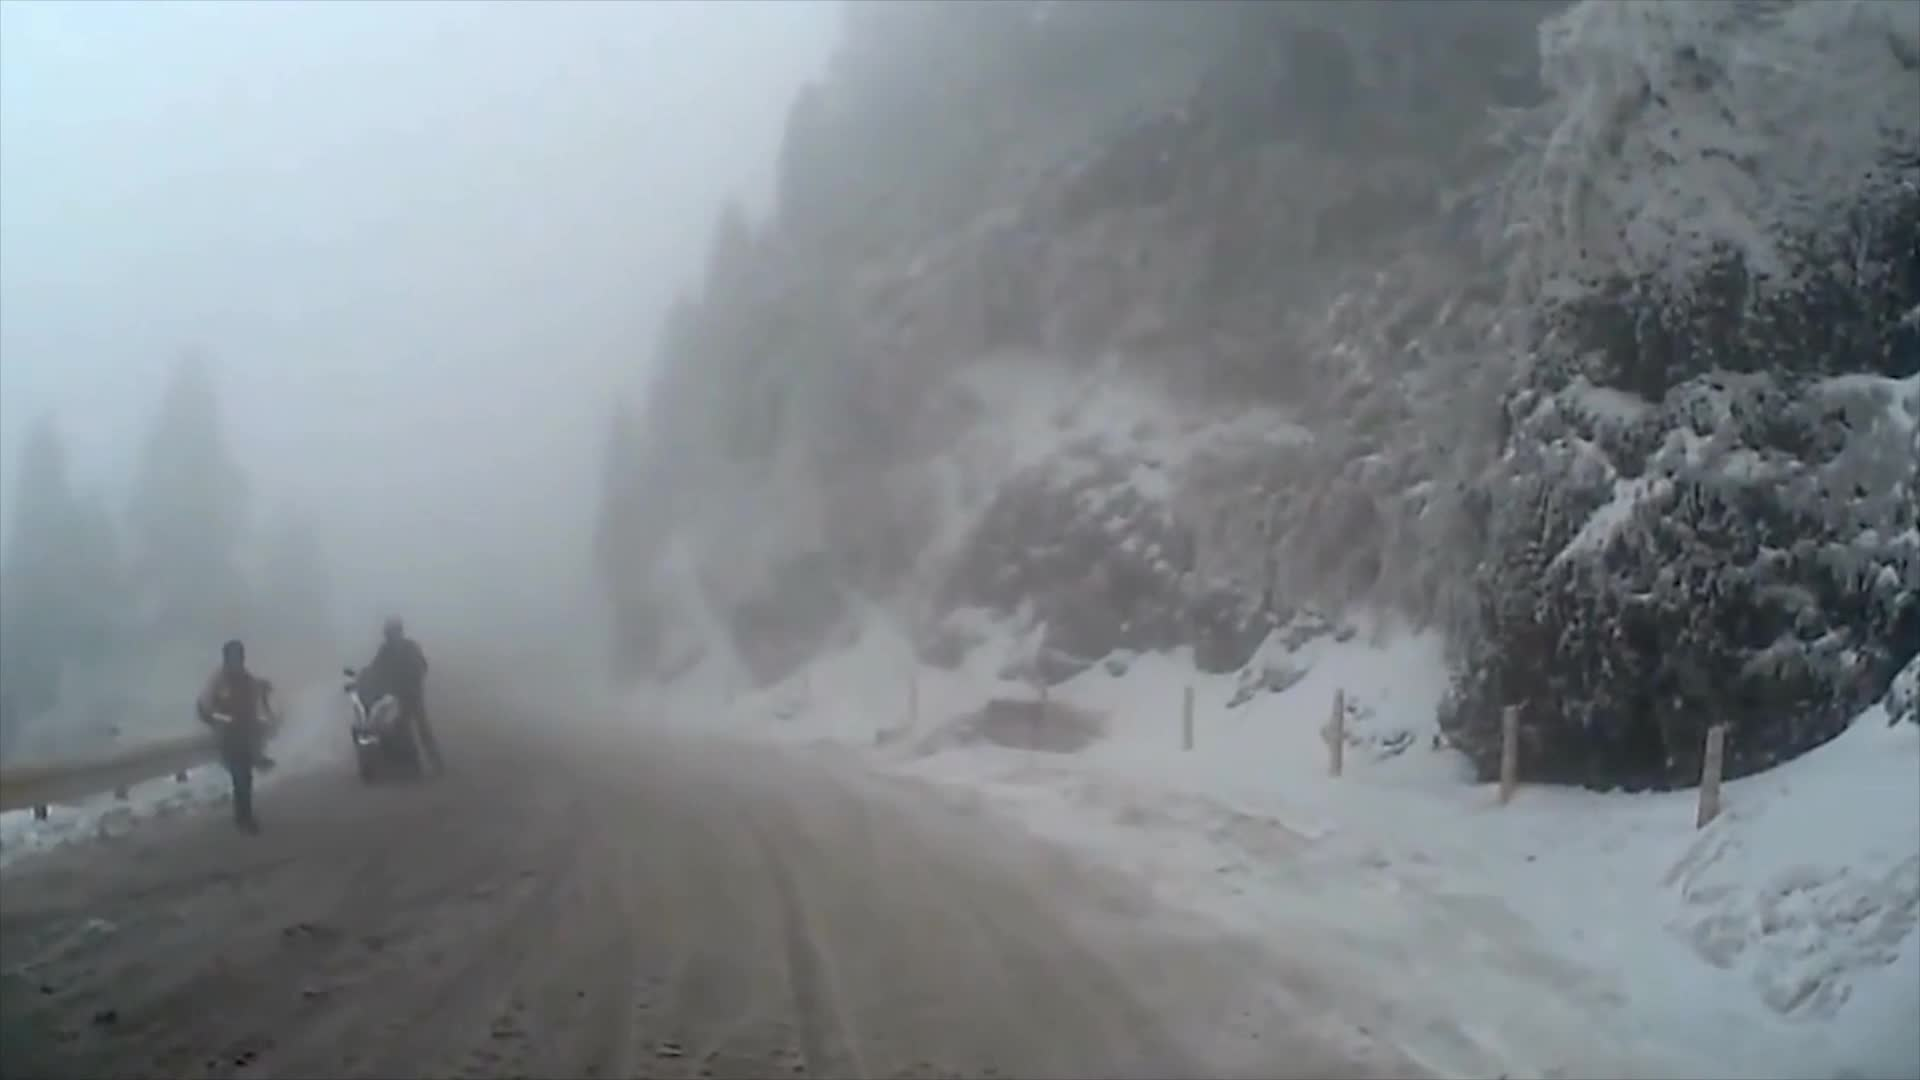pedestrian: (193, 639, 276, 835), (358, 612, 445, 785)
